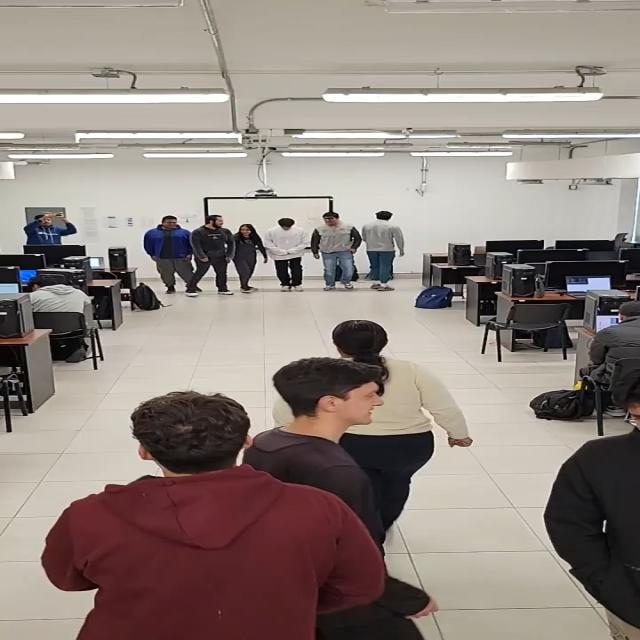Persona: (55, 396, 344, 640), (332, 306, 464, 525), (310, 205, 362, 295), (140, 212, 190, 298), (365, 200, 406, 293), (192, 209, 233, 299), (273, 208, 308, 294), (233, 220, 266, 298)
